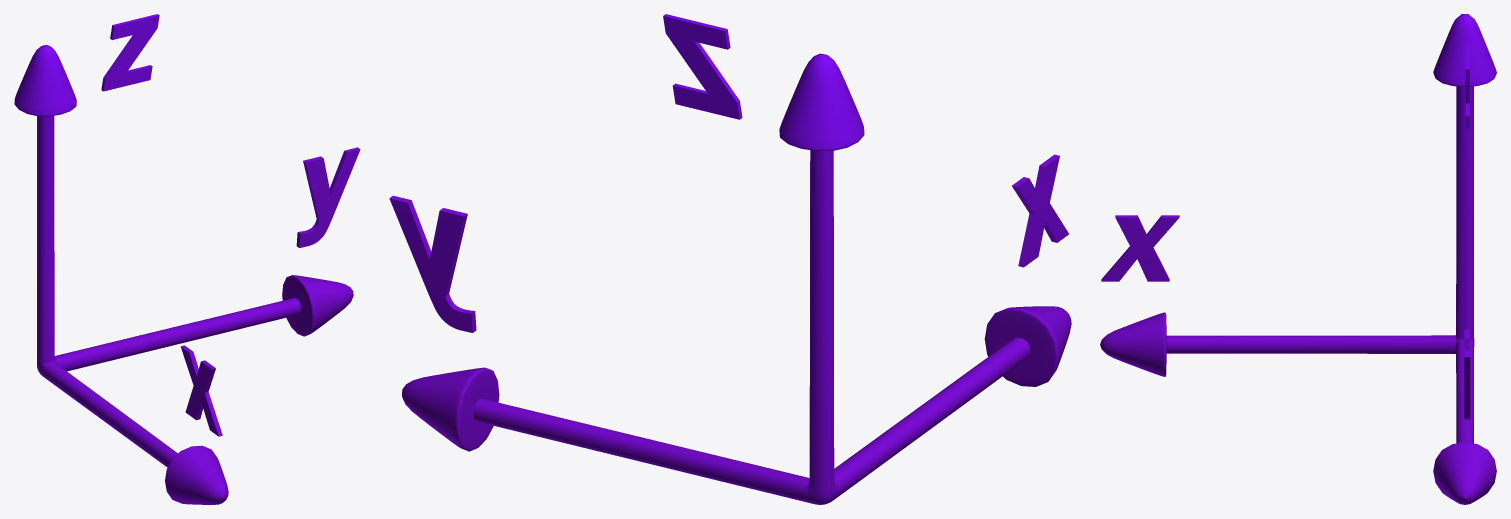
The model's file is AxisMini_Origin_purple.fbx.
3 views of the same model, side by side, from view 1: azimuth 30°, elevation 25°; view 2: azimuth 150°, elevation 25°; view 3: azimuth 270°, elevation 25° (orthographic). The views are drawn at different scales.
Parts seen in each view (by area): view 1: AxisMini_Origin_purple; view 2: AxisMini_Origin_purple; view 3: AxisMini_Origin_purple.
Part boxes in pixels (x1,y1,x2,y2): AxisMini_Origin_purple: (14, 14, 360, 504); AxisMini_Origin_purple: (389, 14, 1071, 504); AxisMini_Origin_purple: (1100, 14, 1496, 504).
Bounding box in the file's own units: 19.79 × 19.5 × 19.41.
